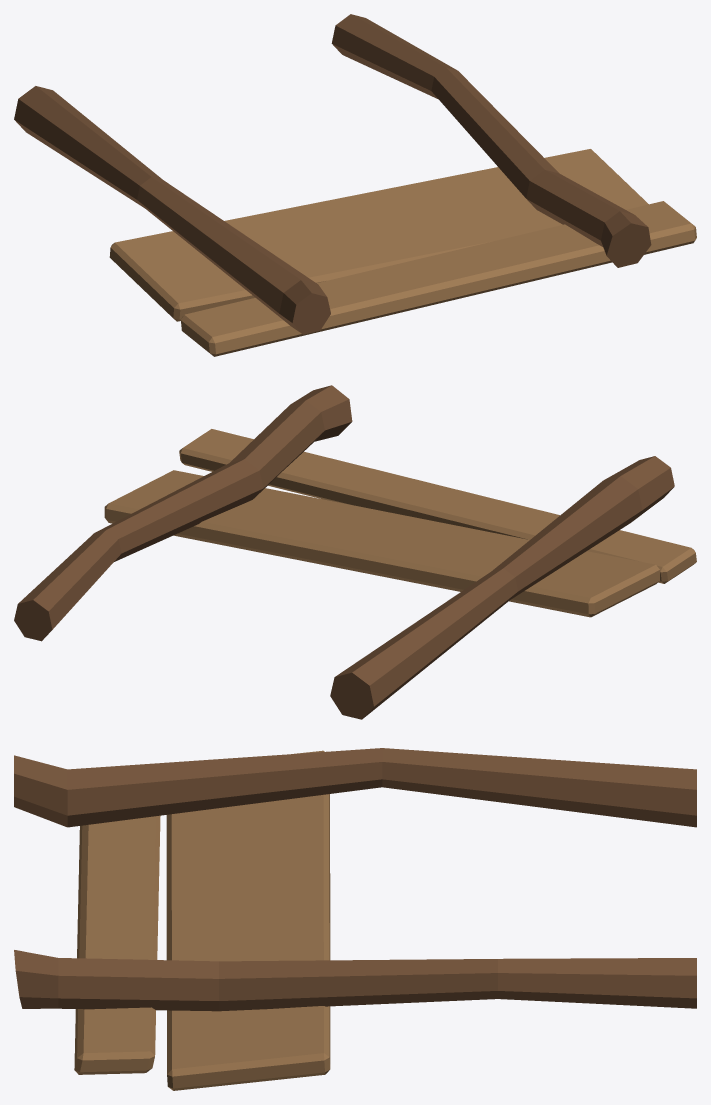
File: Panel_20.fbx
3 views of the same model, one above another, from view 1: azimuth 30°, elevation 25°; view 2: azimuth 150°, elevation 25°; view 3: azimuth 270°, elevation 25° (orthographic). The views are drawn at different scales.
Visible parts, largest first — view 1: Poteau 2*2 LOW Petit.002; view 2: Poteau 2*2 LOW Petit.002; view 3: Poteau 2*2 LOW Petit.002.
Boxes of the visible parts, x1,y1,x2,y2 form: Poteau 2*2 LOW Petit.002: (14, 14, 696, 356); Poteau 2*2 LOW Petit.002: (14, 385, 696, 719); Poteau 2*2 LOW Petit.002: (14, 748, 696, 1090).
Size of the model in its own units: 77.56 by 13.36 by 79.74.
